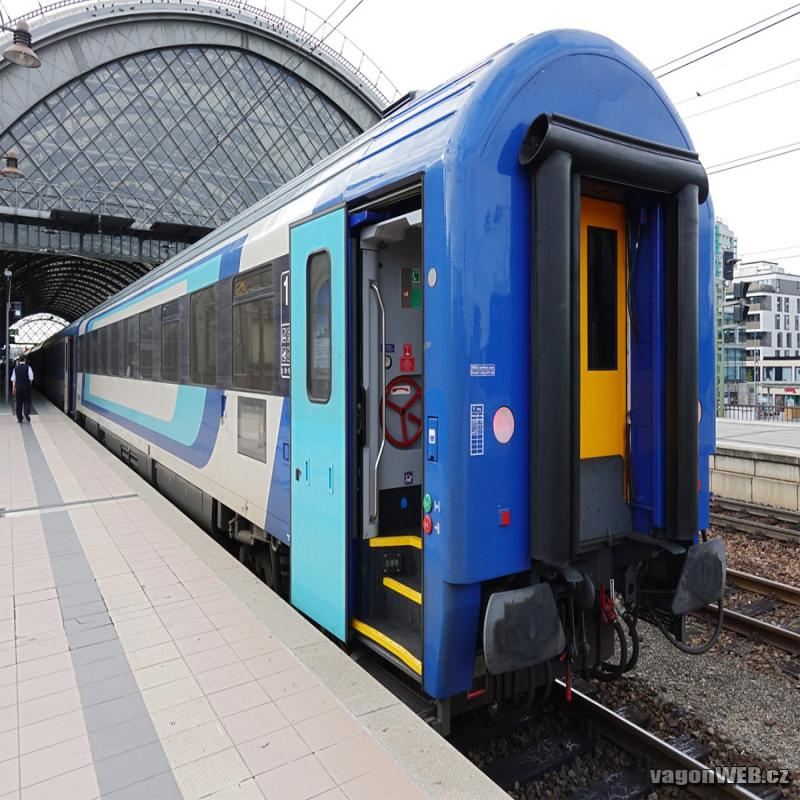train: (76, 34, 721, 731)
